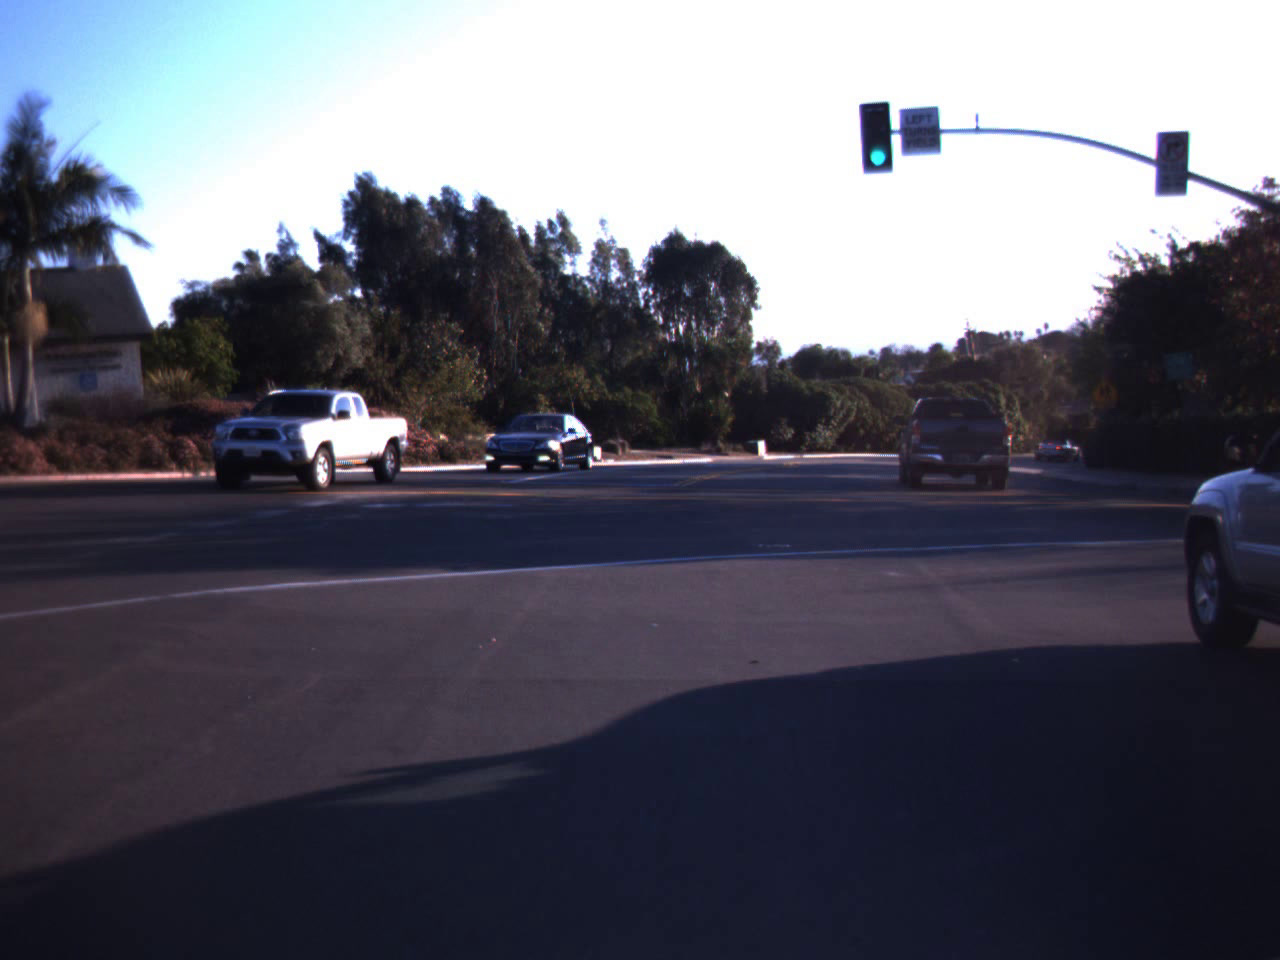go: (860, 102, 896, 172)
